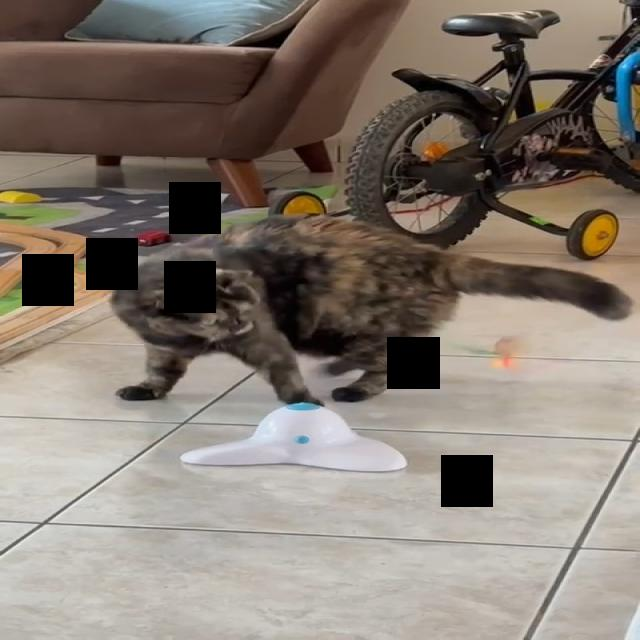authorized: (107, 213, 633, 407)
